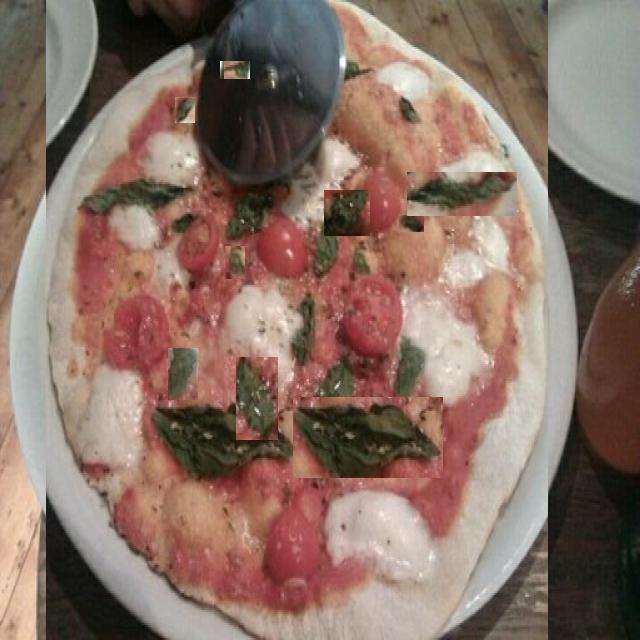basil: (293, 397, 443, 478), (407, 172, 517, 216), (236, 357, 278, 440), (324, 190, 370, 236), (168, 348, 198, 401), (257, 218, 282, 275), (284, 288, 300, 364), (225, 246, 245, 279), (220, 61, 250, 79), (175, 97, 195, 123), (224, 61, 250, 79), (399, 215, 424, 232), (237, 203, 254, 226), (229, 244, 241, 276)
pizza: (46, 0, 548, 640)
